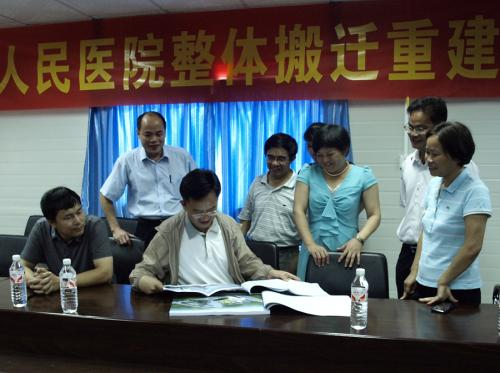person: (128, 167, 303, 294), (395, 95, 481, 299), (399, 120, 493, 306), (98, 111, 199, 284), (98, 110, 198, 249), (293, 123, 381, 280), (19, 185, 114, 294), (238, 128, 294, 273)
